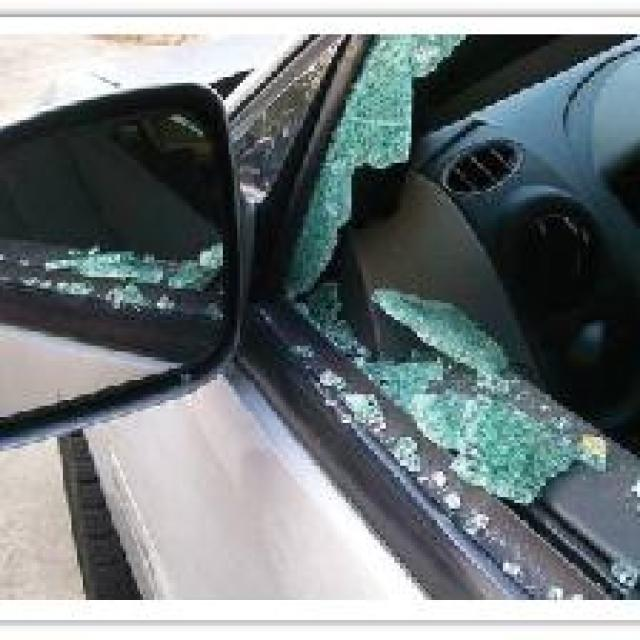glass_shatter_severe: (266, 37, 637, 497)
